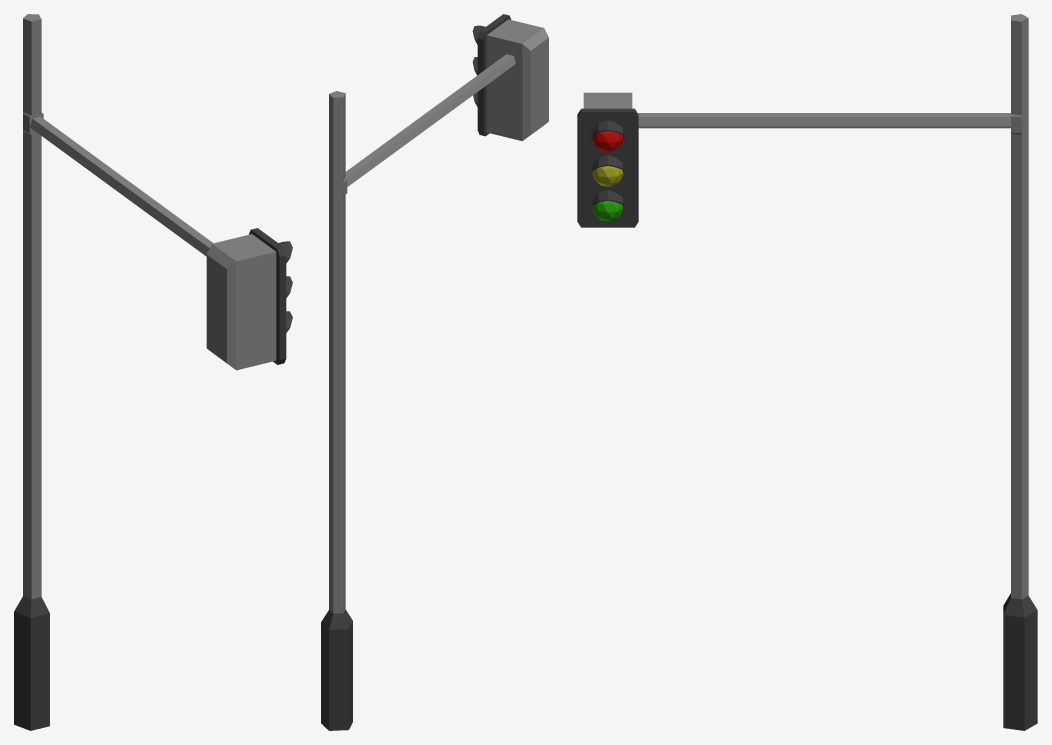
Rendered from TrafficLight_2.glb.
The picture shows the model from 3 angles, left to right: view 1: azimuth 30°, elevation 25°; view 2: azimuth 150°, elevation 25°; view 3: azimuth 270°, elevation 25°; orthographic projection. The views are drawn at different scales.
Visible parts, largest first — view 1: TrafficLight_2; view 2: TrafficLight_2; view 3: TrafficLight_2.
Boxes of the visible parts, x1,y1,x2,y2 form: TrafficLight_2: (14, 14, 292, 730); TrafficLight_2: (321, 14, 548, 730); TrafficLight_2: (577, 14, 1037, 730).
Bounding box in the file's own units: 0.123 × 1.13 × 0.6708.
